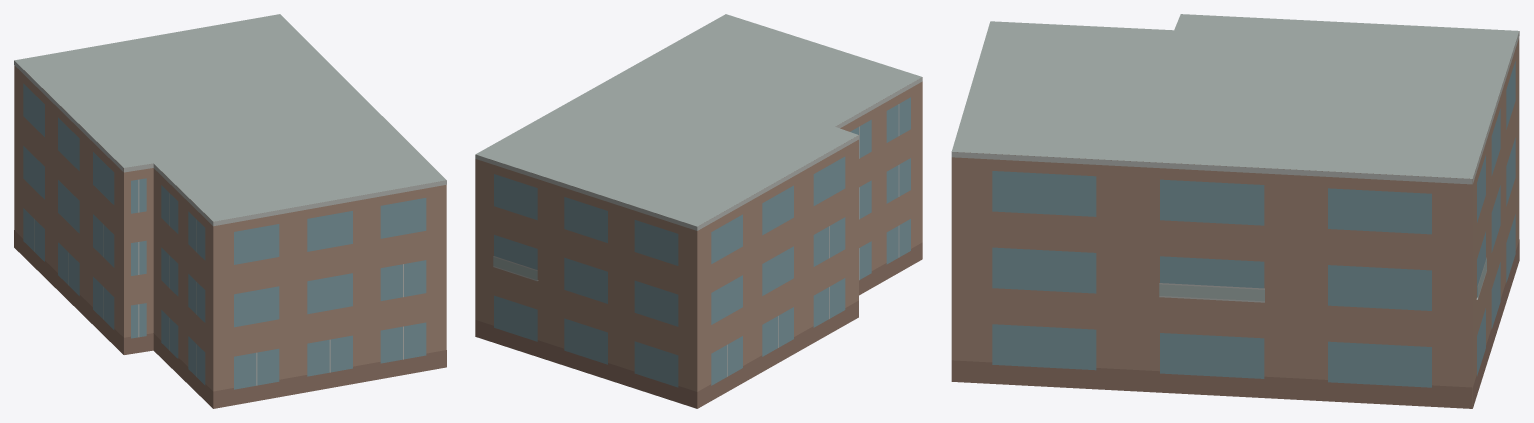
File: survey-upis-32500580.glb
3 views of the same model, side by side, from view 1: azimuth 30°, elevation 25°; view 2: azimuth 150°, elevation 25°; view 3: azimuth 270°, elevation 25° (orthographic). The views are drawn at different scales.
Parts seen in each view (by area): view 1: survey-upis-32500580.tmp; view 2: survey-upis-32500580.tmp; view 3: survey-upis-32500580.tmp.
Boxes of the visible parts, x1,y1,x2,y2 form: survey-upis-32500580.tmp: (14,14,446,408); survey-upis-32500580.tmp: (475,14,922,408); survey-upis-32500580.tmp: (951,14,1519,408).
Bounding box in the file's own units: 15.62 × 10.15 × 22.72.
